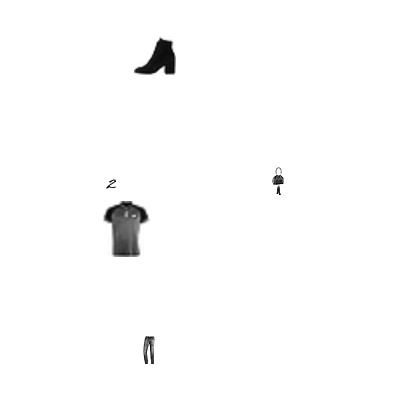2: (104, 177, 118, 191)
Ankle_boot: (134, 34, 176, 76)
Bag: (264, 167, 292, 195)
T-shirt/top: (98, 201, 154, 257)
Trouser: (135, 336, 163, 364)
